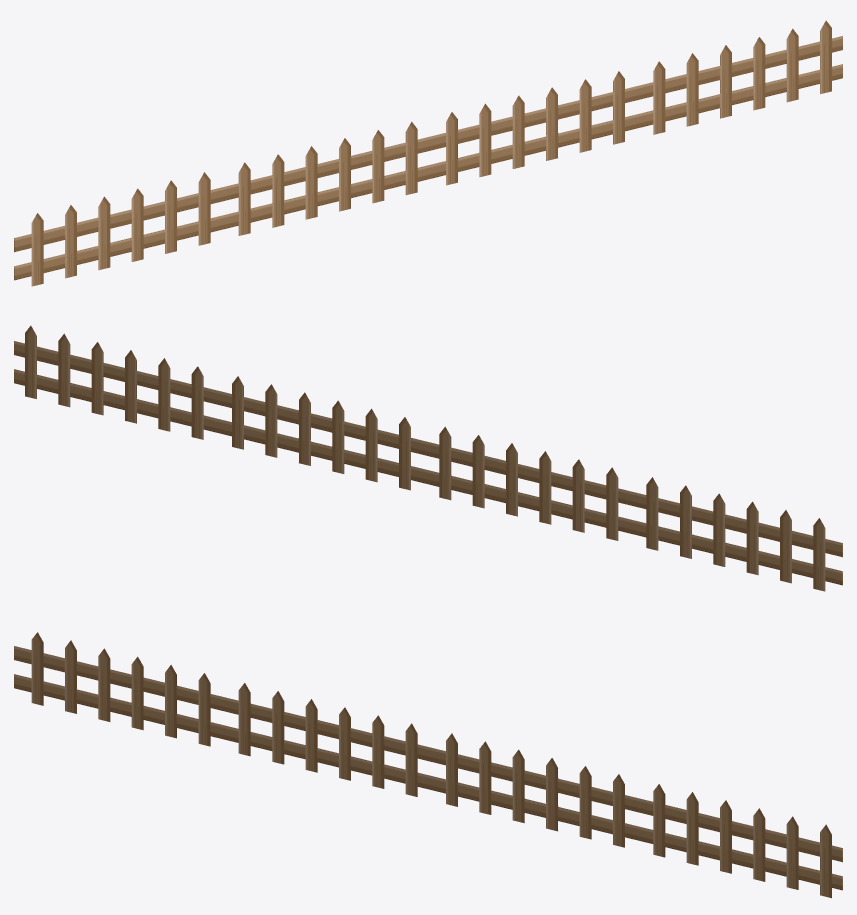
File: Fence plane.fbx
3 renders of one model, top to bottom at view 1: azimuth 30°, elevation 25°; view 2: azimuth 150°, elevation 25°; view 3: azimuth 330°, elevation 25°, orthographic.
Parts seen in each view (by area): view 1: Fence plane; view 2: Fence plane; view 3: Fence plane.
Boxes of the visible parts, x1,y1,x2,y2 form: Fence plane: (14, 20, 842, 286); Fence plane: (14, 325, 842, 591); Fence plane: (14, 632, 842, 898).
Bounding box in the file's own units: 2328 × 200 × 1.
